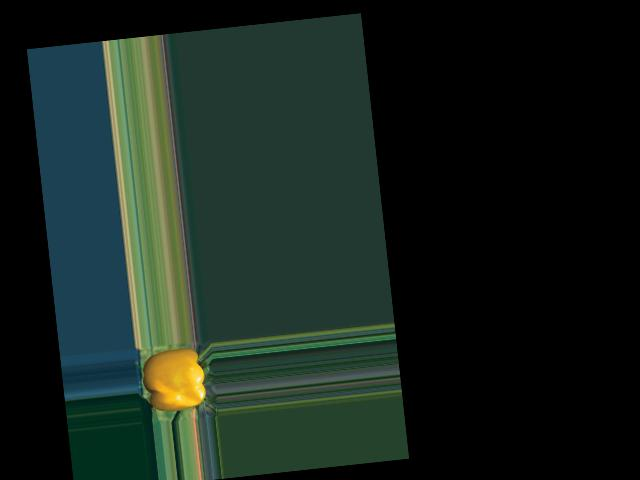bell_pepper: (139, 342, 214, 419)
